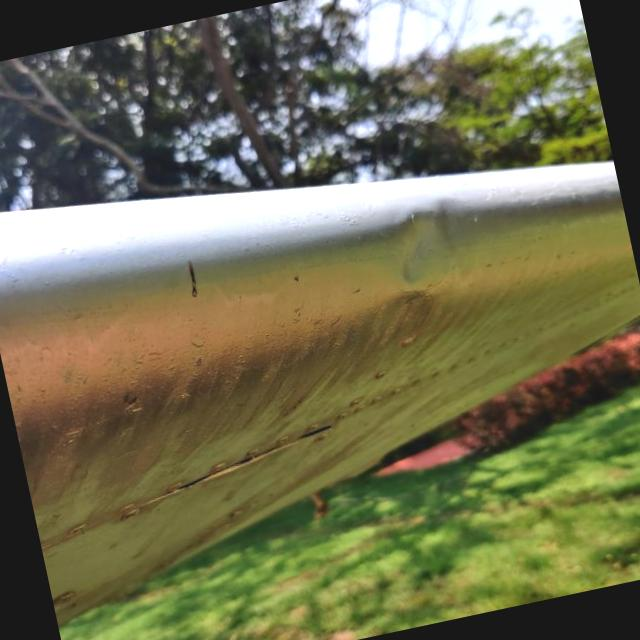dent: (364, 194, 490, 296)
